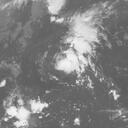cyclone: (51, 48, 93, 81)
